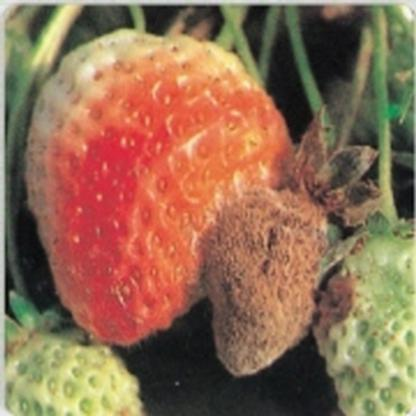Strawberry_Gray_Mold: (200, 106, 384, 376)
